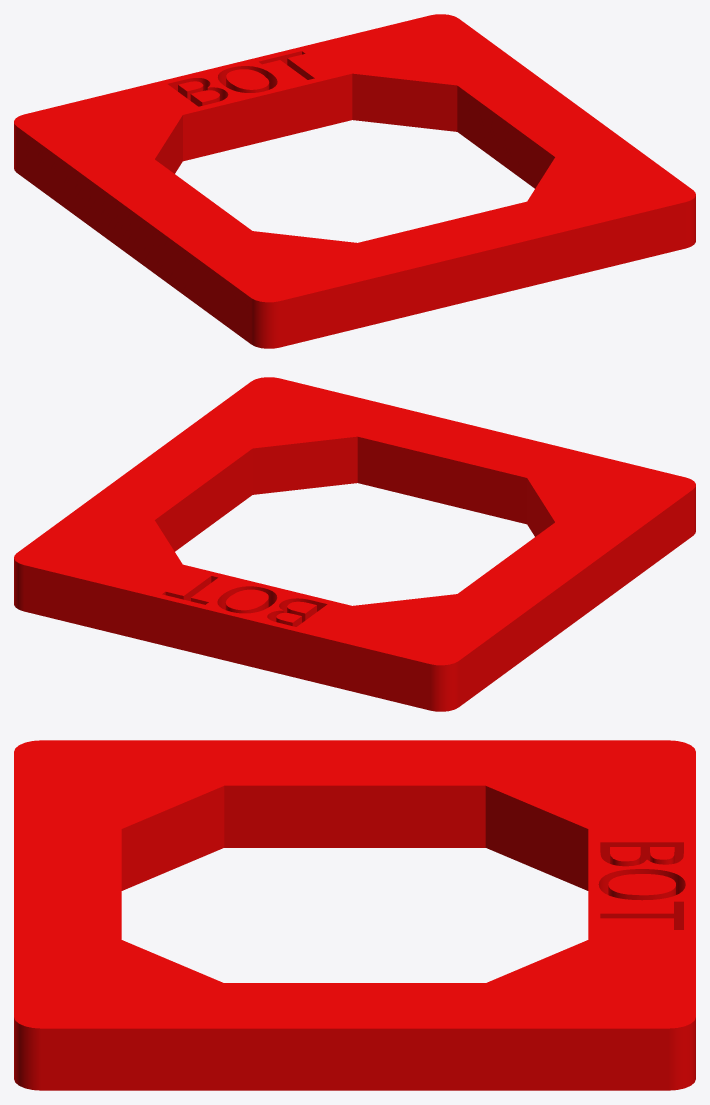
Rendered from Cube 1x1 V5_Cube 1x1 V5 Bot Press.obj.
The picture shows the model from 3 angles, top to bottom: view 1: azimuth 30°, elevation 25°; view 2: azimuth 150°, elevation 25°; view 3: azimuth 270°, elevation 25°; orthographic projection. The views are drawn at different scales.
Parts seen in each view (by area): view 1: Solid1:9; view 2: Solid1:9; view 3: Solid1:9.
Part boxes in pixels (x1,y1,x2,y2): Solid1:9: [14, 14, 695, 348]; Solid1:9: [14, 377, 695, 711]; Solid1:9: [14, 740, 695, 1090].
Size of the model in its own units: 49.8 by 5 by 49.8.
